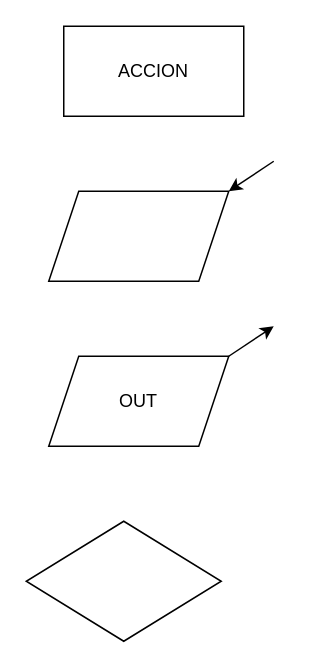
This 312x668 diagram has some shape labels left out. Here are the shapes that lost their labels. From the top down, the box of each, then its label:
(47, 190, 229, 281): IN
(25, 520, 221, 641): DESIDED
